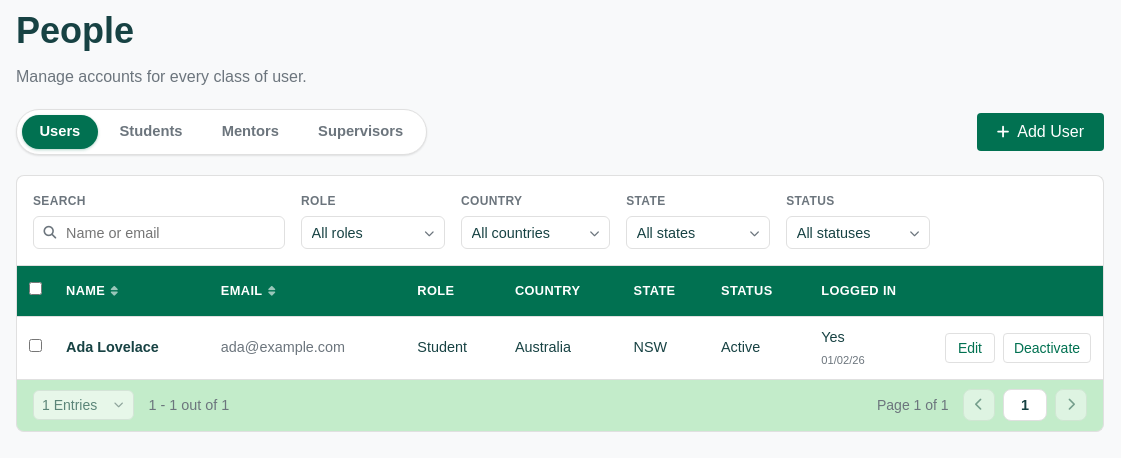
Test case: AdminPeoplePage › switches to the Mentors tab
This screenshot has width=1121, height=458.
Click the tab "Mentors": click(250, 132) [204,115,296,149]
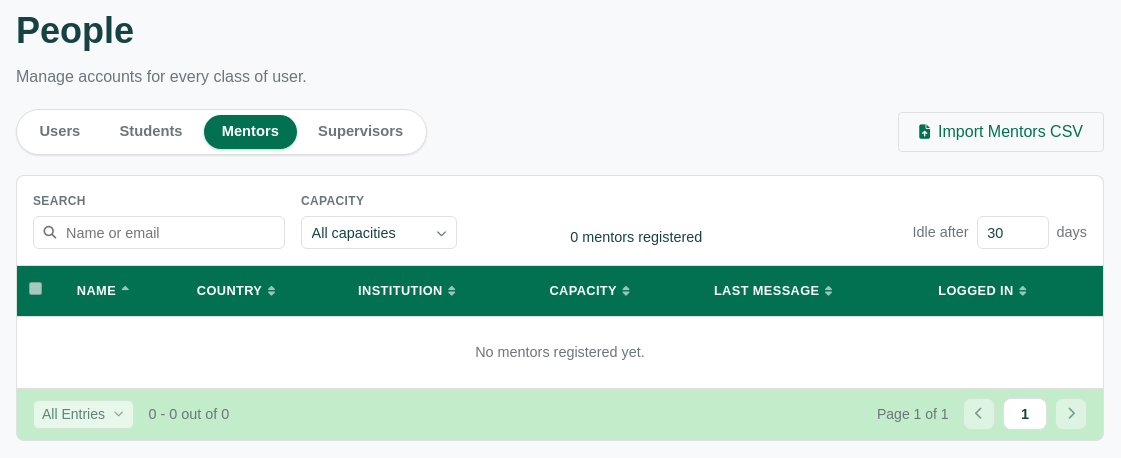
Expected: the number field with id "inactive-days-input" is shown, [977,216,1049,249]
Expected: the text "0 mentors registered" is shown, [570,226,702,249]
Expected: the text "No mentors registered yet." is shown, [17,316,1103,388]
